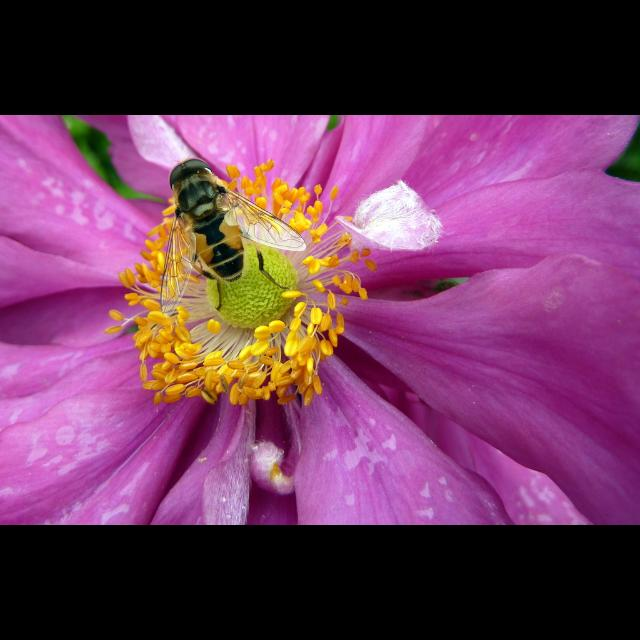Flower: (34, 122, 590, 522)
